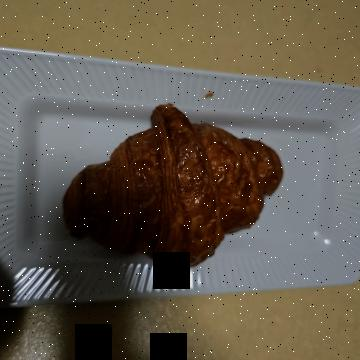croissant: (97, 57, 287, 296)
